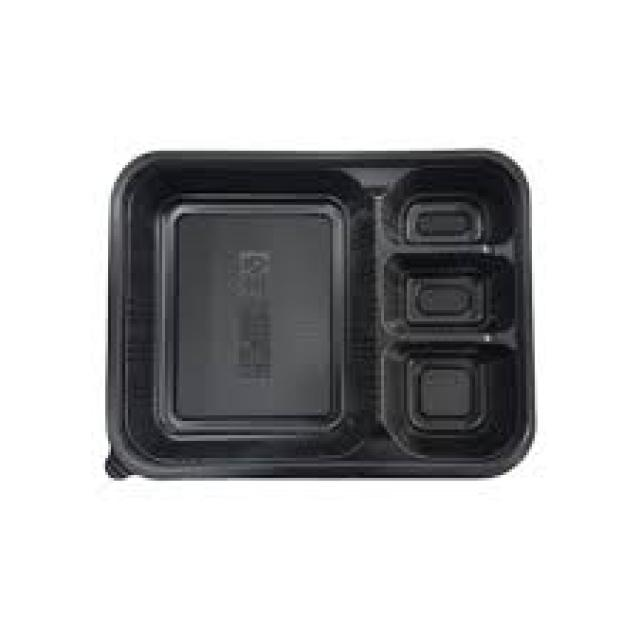disposable: (94, 135, 557, 502)
